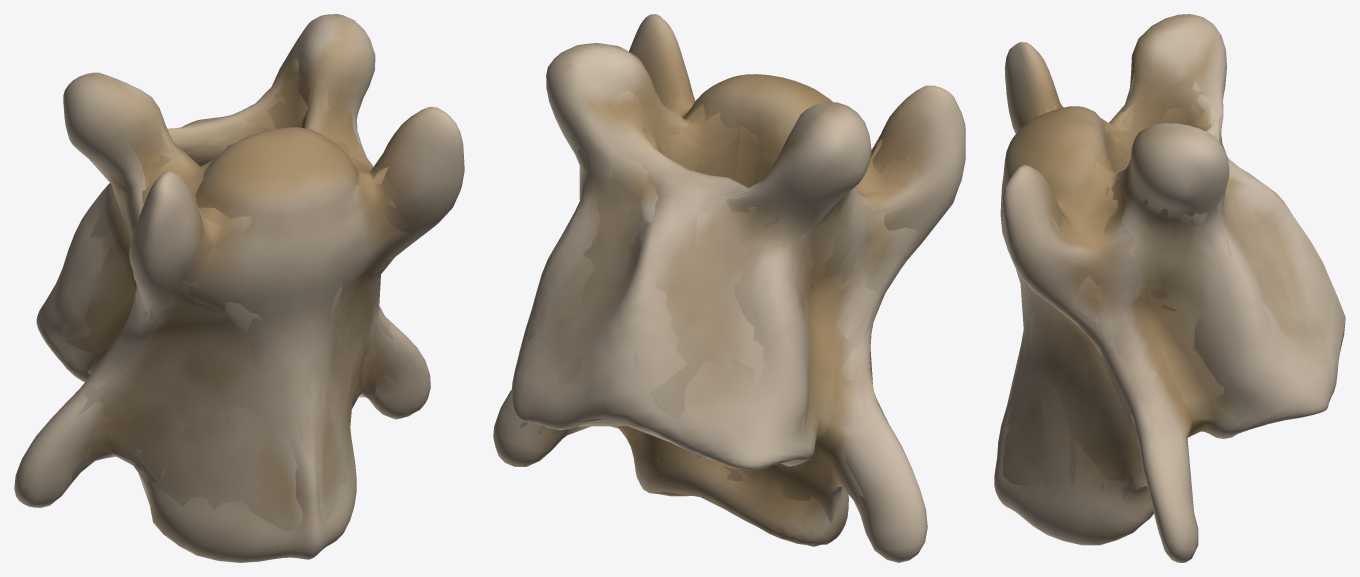
Rendered from vertebra cervicalis 5.fbx.
3 views of the same model, side by side, from view 1: azimuth 30°, elevation 25°; view 2: azimuth 150°, elevation 25°; view 3: azimuth 270°, elevation 25° (orthographic). The views are drawn at different scales.
Visible parts, largest first — view 1: vertebra cervicalis 5, vertebra cervicalis 5 low; view 2: vertebra cervicalis 5, vertebra cervicalis 5 low; view 3: vertebra cervicalis 5, vertebra cervicalis 5 low.
Boxes of the visible parts, x1,y1,x2,y2 form: vertebra cervicalis 5: (14,14,464,562); vertebra cervicalis 5 low: (50,58,416,531); vertebra cervicalis 5: (493,14,965,562); vertebra cervicalis 5 low: (519,81,918,522); vertebra cervicalis 5: (994,14,1345,562); vertebra cervicalis 5 low: (1003,73,1324,514).
Bounding box in the file's own units: 12.34 × 13.13 × 9.44.
Materials: 1 (1 with a texture image).
